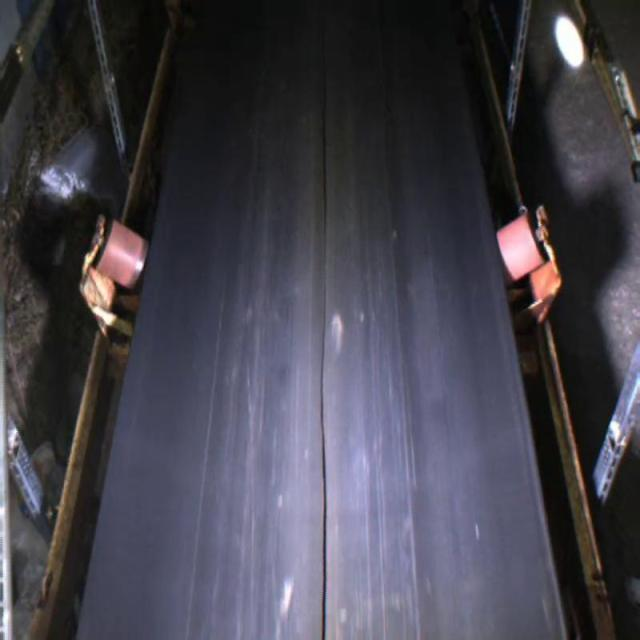Tear: (314, 5, 338, 640)
